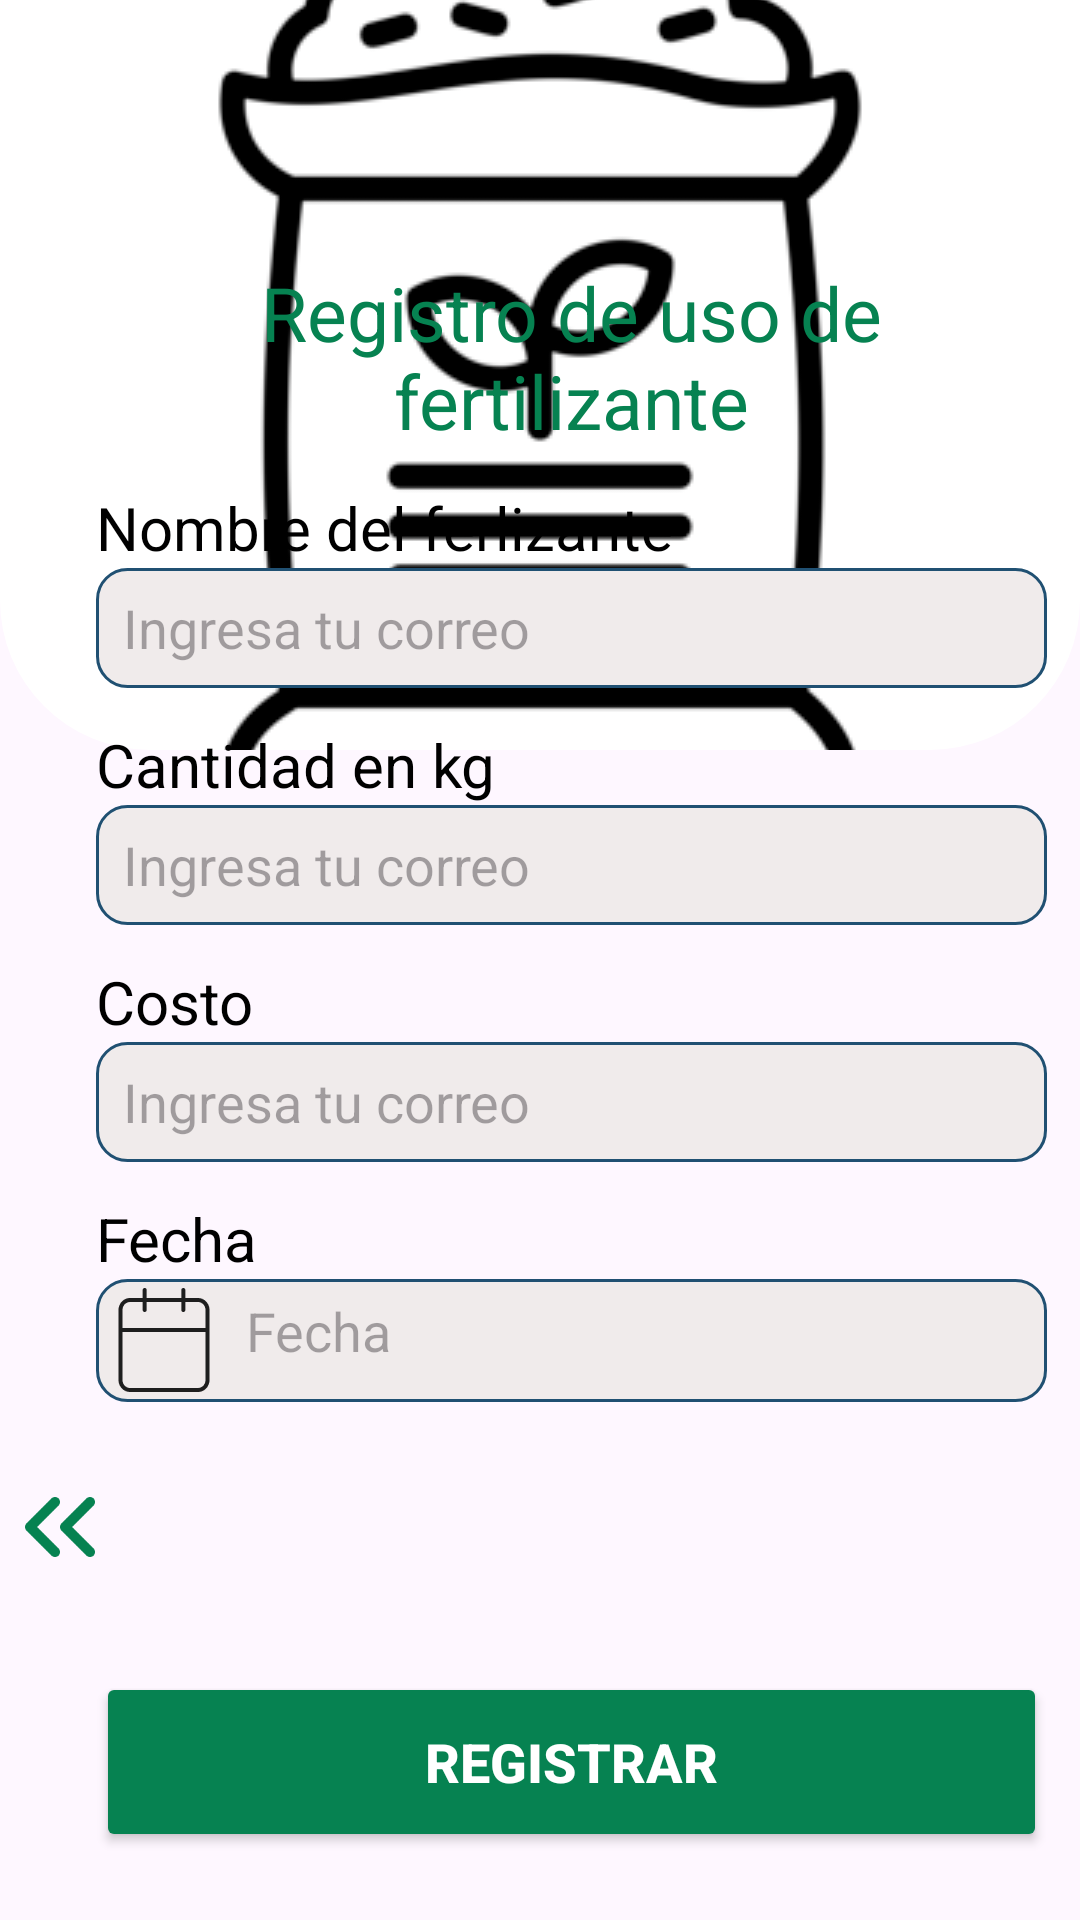

Named icons in this screenshot (1080px×1920px) and their centers, (x,y):
chevrons left: (60,1527)
